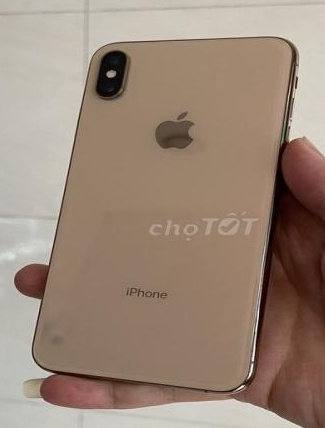scratch: (17, 318, 89, 359)
